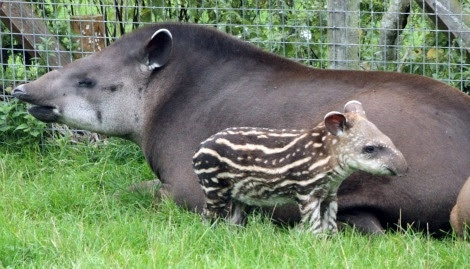Anta: (9, 14, 468, 241), (188, 97, 412, 234)
